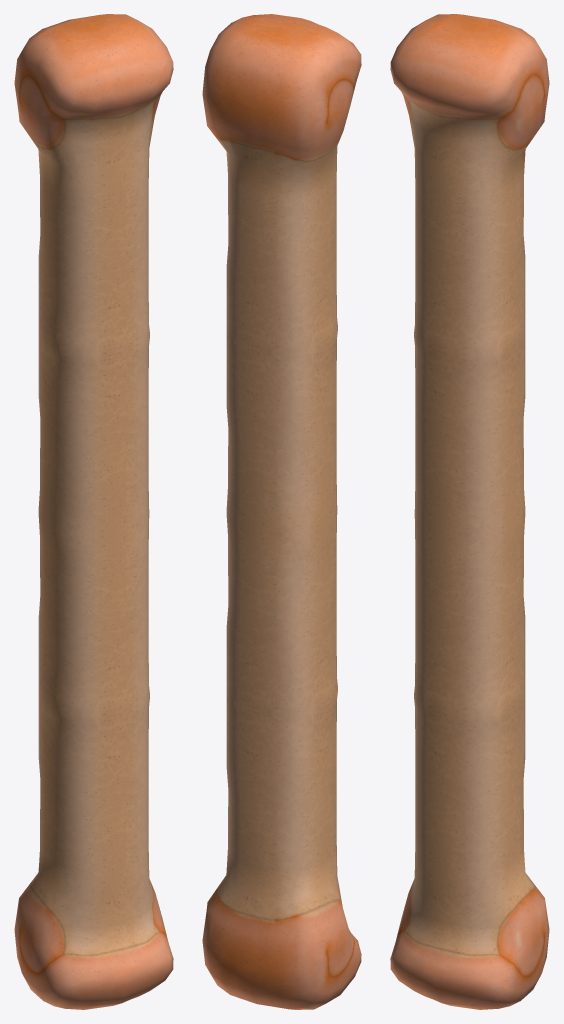
The model's file is columnaQuatriple.fbx.
The picture shows the model from 3 angles, left to right: view 1: azimuth 30°, elevation 25°; view 2: azimuth 150°, elevation 25°; view 3: azimuth 330°, elevation 25°; orthographic projection.
Parts seen in each view (by area): view 1: Group27273; view 2: Group27273; view 3: Group27273.
Part boxes in pixels (left/top/right/bottom): Group27273: left=14, top=14, right=173, bottom=1009; Group27273: left=202, top=14, right=361, bottom=1009; Group27273: left=390, top=14, right=549, bottom=1009.
Bounding box in the file's own units: 48.76 × 357 × 45.4.
Materials: 1 (1 with a texture image).
